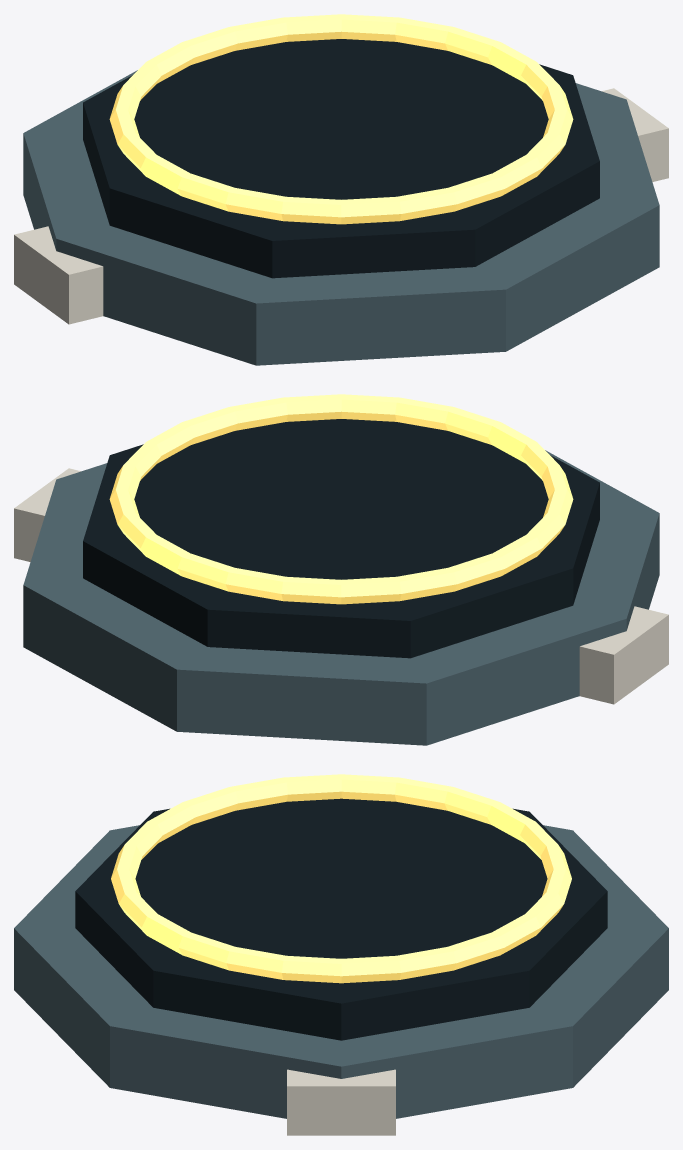
The model's file is pedestal.glb.
3 renders of one model, top to bottom at view 1: azimuth 30°, elevation 25°; view 2: azimuth 150°, elevation 25°; view 3: azimuth 270°, elevation 25°, orthographic.
Parts seen in each view (by area): view 1: pedestal; view 2: pedestal; view 3: pedestal.
Part boxes in pixels (x1,y1,x2,y2): pedestal: [14, 14, 668, 365]; pedestal: [14, 394, 668, 745]; pedestal: [14, 774, 668, 1135].
Bounding box in the file's own units: 1.01 × 0.1956 × 0.96.
